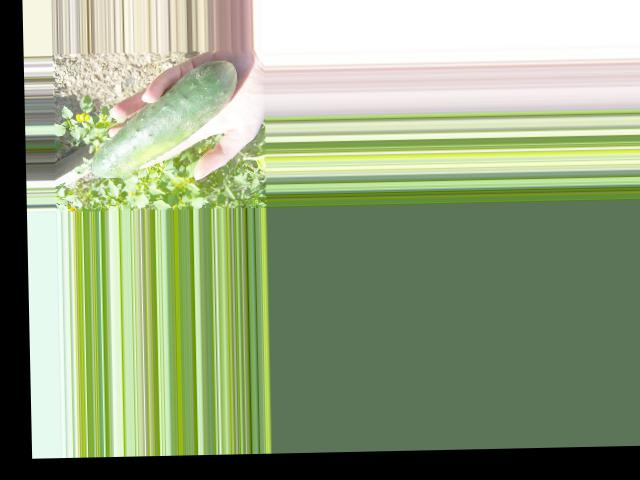cucumber: (87, 60, 238, 177)
